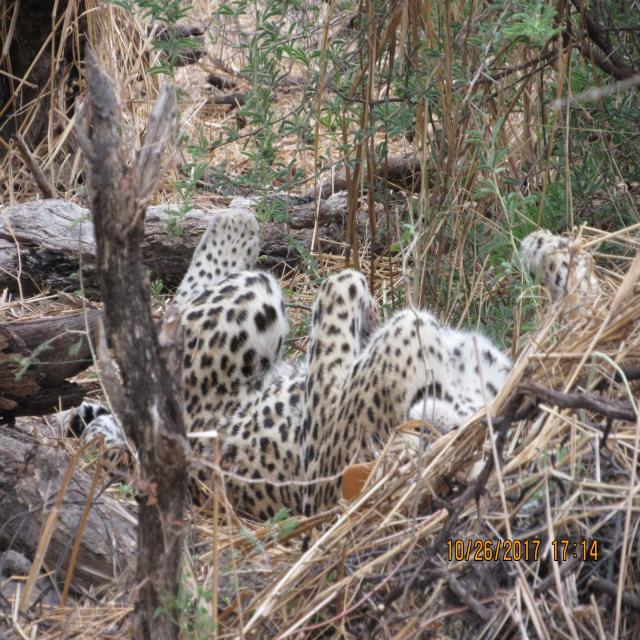Leopard: (50, 207, 560, 533)
